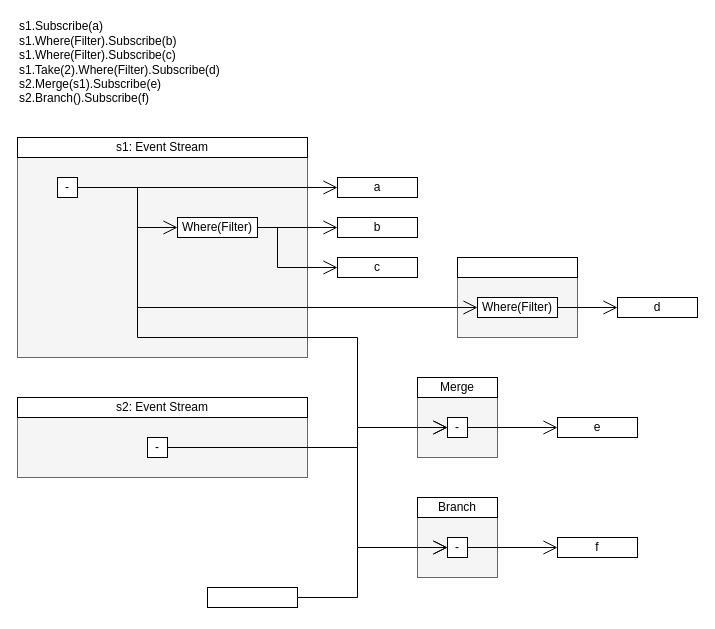
This 715x629 diagram has some shape labels left out. The shapes that lost their labels are listed below. From the top down, each one's box as (x1, y1, x2, y2) in pixels, then its label:
(456, 256, 578, 278): Take(2)
(206, 586, 298, 608): External Event
